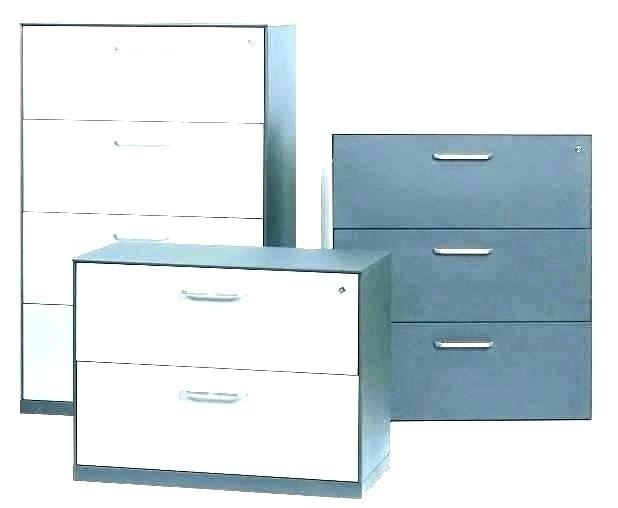cabinet_door: (80, 369, 358, 469), (82, 273, 361, 371), (334, 323, 592, 419), (329, 139, 587, 231), (332, 231, 585, 322), (22, 212, 264, 304), (25, 31, 263, 122), (25, 121, 263, 211)
handle: (175, 385, 248, 409), (427, 333, 498, 357), (177, 285, 248, 308), (426, 242, 496, 264), (108, 225, 172, 247), (429, 147, 498, 167), (105, 40, 175, 58), (109, 133, 172, 152)
